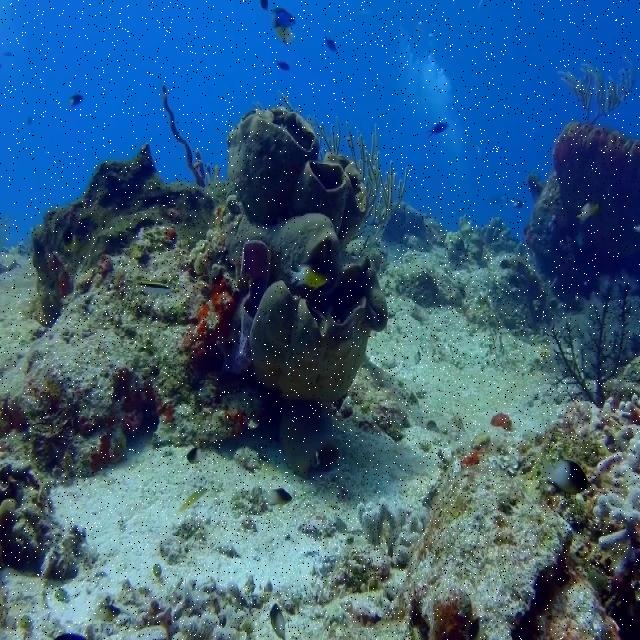aquatic plants: (222, 106, 389, 481)
fish: (576, 201, 600, 222), (271, 8, 296, 27), (276, 26, 295, 50), (425, 123, 447, 136), (321, 32, 336, 51), (64, 94, 83, 107), (276, 60, 290, 70)
reefs: (55, 357, 639, 639), (1, 138, 269, 581)
